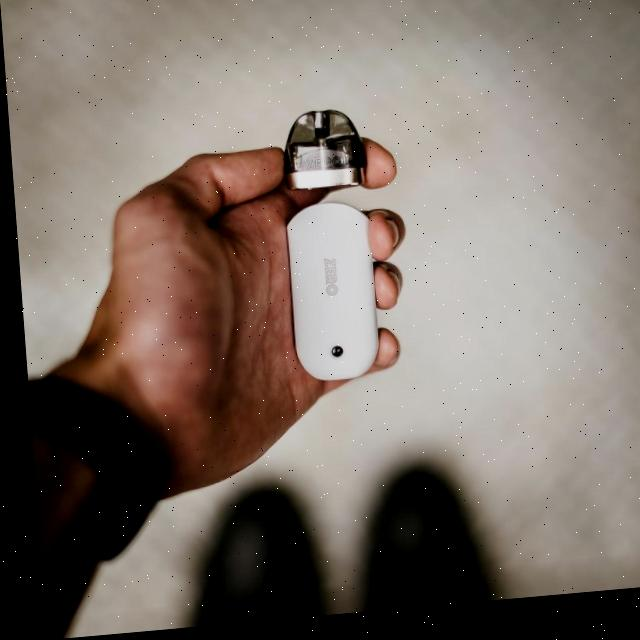vape: (276, 113, 374, 389)
